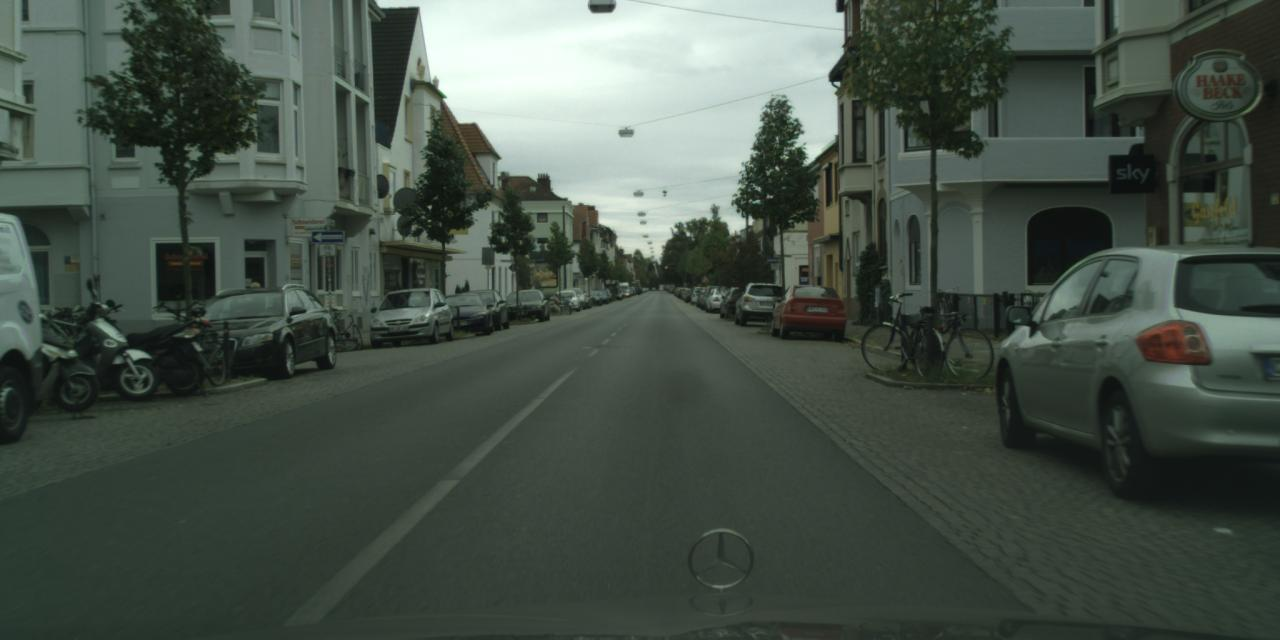ped: (242, 282, 269, 349)
